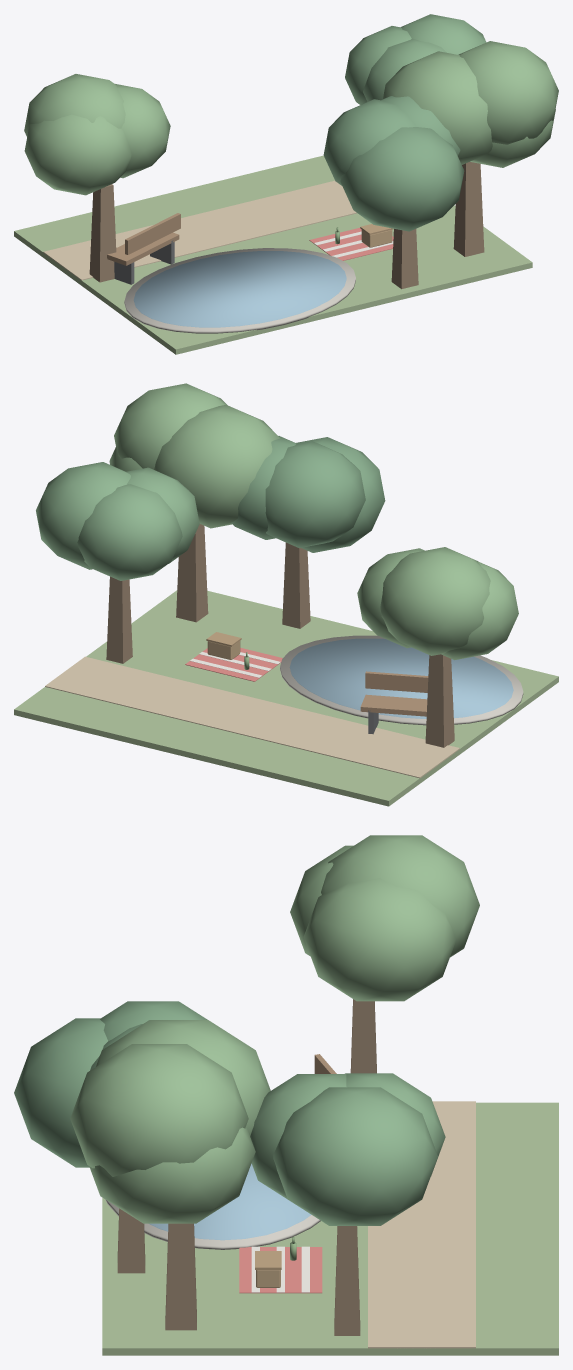
Rendered from salida.parque.fbx.
3 renders of one model, top to bottom at view 1: azimuth 30°, elevation 25°; view 2: azimuth 150°, elevation 25°; view 3: azimuth 270°, elevation 25°, orthographic. The views are drawn at different scales.
Parts seen in each view (by area): view 1: Suelo, Laguna, Copa.004, Sendero, Copa.001, Copa.009, Copa.002, Copa.011, Copa.005, Copa.010, Orilla, Tronco (+10 smaller); view 2: Suelo, Sendero, Laguna, Copa.011, Copa.002, Copa.005, Copa.007, Copa.008, Copa.001, Copa.009, Orilla, Copa.004 (+10 smaller); view 3: Suelo, Sendero, Copa.008, Copa.001, Copa.010, Copa, Copa.011, Copa.004, Copa.002, Laguna, Copa.006, Tronco (+8 smaller).
Part boxes in pixels (bbox=[...]): Suelo: bbox=[14, 155, 532, 354]; Laguna: bbox=[133, 251, 346, 327]; Copa.004: bbox=[340, 127, 464, 231]; Sendero: bbox=[43, 180, 356, 280]; Copa.001: bbox=[458, 41, 558, 144]; Copa.009: bbox=[24, 114, 131, 195]; Copa.002: bbox=[383, 51, 492, 164]; Copa.011: bbox=[24, 74, 125, 136]; Copa.005: bbox=[323, 99, 416, 185]; Copa.010: bbox=[115, 84, 170, 178]; Orilla: bbox=[124, 248, 355, 333]; Tronco: bbox=[453, 162, 484, 256]; Suelo: bbox=[14, 590, 558, 806]; Sendero: bbox=[45, 656, 459, 778]; Laguna: bbox=[289, 638, 513, 718]; Copa.011: bbox=[380, 547, 490, 655]; Copa.002: bbox=[154, 405, 280, 528]; Copa.005: bbox=[265, 441, 365, 547]; Copa.007: bbox=[77, 484, 182, 580]; Copa.008: bbox=[36, 462, 130, 569]; Copa.001: bbox=[114, 383, 226, 469]; Copa.009: bbox=[441, 561, 518, 660]; Orilla: bbox=[280, 635, 523, 725]; Copa.004: bbox=[296, 437, 385, 552]; Suelo: bbox=[102, 1102, 558, 1355]; Sendero: bbox=[368, 1101, 475, 1348]; Copa.008: bbox=[273, 1087, 437, 1225]; Copa.001: bbox=[70, 1044, 248, 1176]; Copa.010: bbox=[303, 878, 456, 1001]; Copa: bbox=[89, 1126, 255, 1223]; Copa.011: bbox=[321, 835, 479, 957]; Copa.004: bbox=[14, 1018, 107, 1167]; Copa.002: bbox=[96, 1020, 270, 1135]; Laguna: bbox=[149, 1163, 311, 1240]; Copa.006: bbox=[250, 1074, 346, 1199]; Tronco: bbox=[165, 1223, 196, 1330].
Size of the model in its own units: 8.77 by 3.92 by 6.56.
